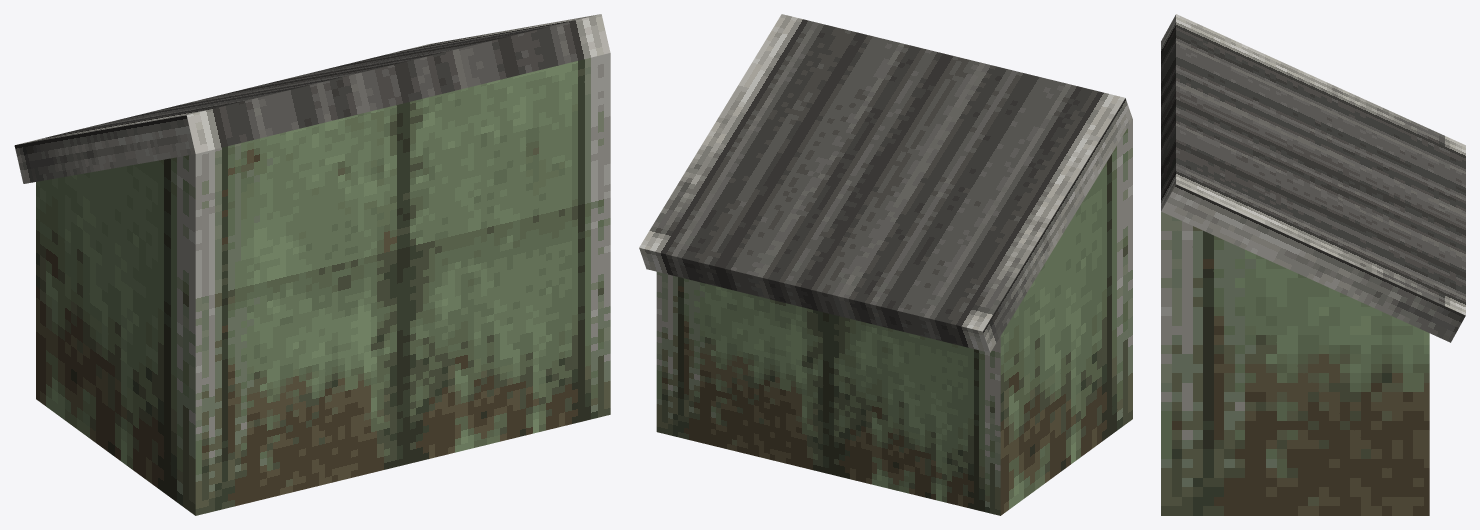
File: detail-dumpster-closed.obj
3 views of the same model, side by side, from view 1: azimuth 30°, elevation 25°; view 2: azimuth 150°, elevation 25°; view 3: azimuth 270°, elevation 25° (orthographic). The views are drawn at different scales.
Visible parts, largest first — view 1: detail-dumpster-closed; view 2: detail-dumpster-closed; view 3: detail-dumpster-closed.
Boxes of the visible parts, x1,y1,x2,y2 form: detail-dumpster-closed: (14,14,610,515); detail-dumpster-closed: (639,14,1132,515); detail-dumpster-closed: (1161,14,1465,515).
Size of the model in its own units: 0.6 by 0.5447 by 0.4537.
